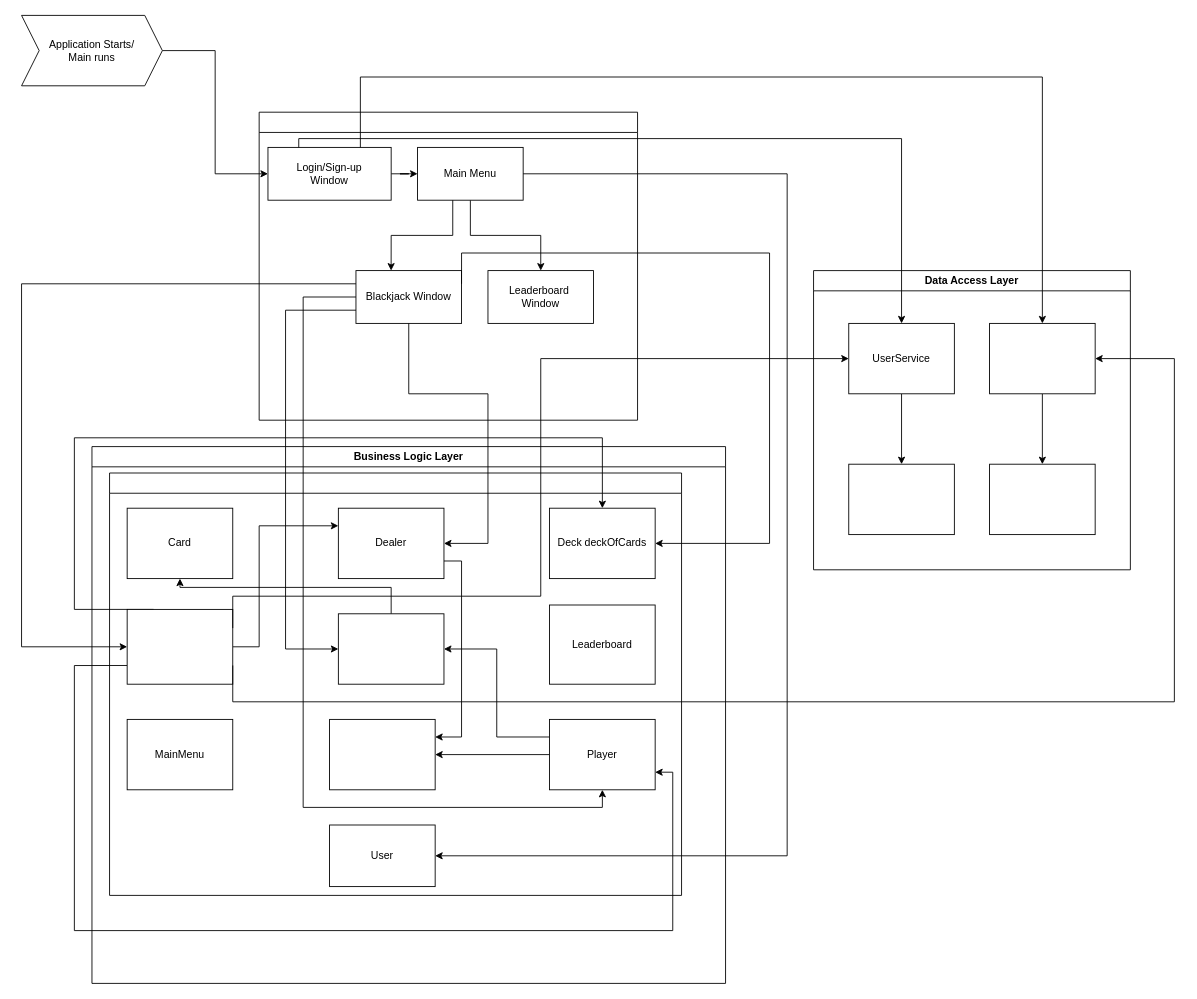
This 1197x999 diagram has some shape labels left out. Here are the shapes that lost their labels. From the top down, the box of each, then its label:
(258, 111, 638, 420): Presentation Layer
(989, 323, 1095, 394): StubDatabase
(848, 463, 954, 535): Database Connection
(989, 463, 1095, 535): Local File Storage
(126, 609, 233, 684): Game
(337, 613, 444, 684): Hand
(109, 472, 682, 895): Models
(329, 719, 435, 790): Person
